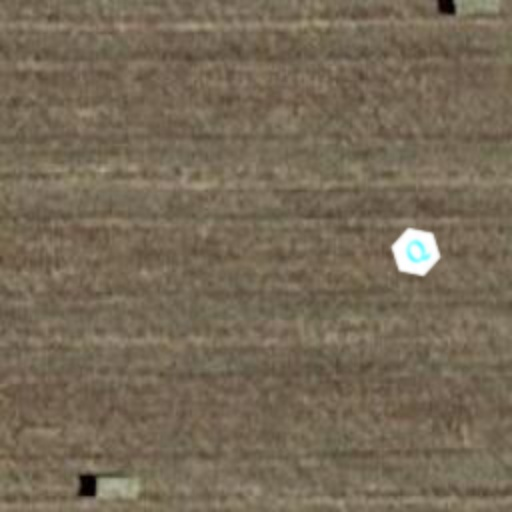hexagon: (380, 216, 452, 288)
